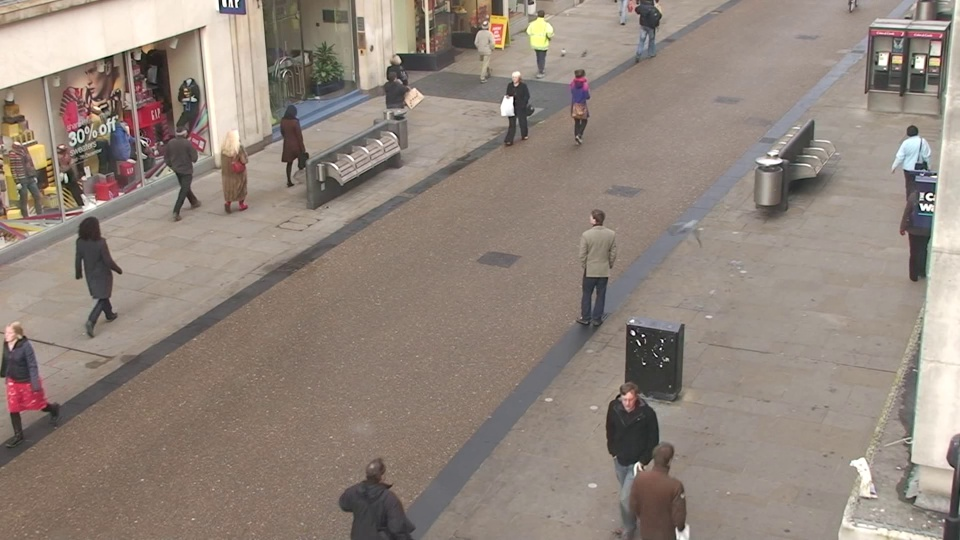pedestrian: (602, 377, 656, 540), (632, 431, 691, 540), (69, 214, 123, 333), (348, 448, 411, 540), (886, 121, 932, 221), (578, 203, 616, 323), (164, 121, 203, 215), (218, 124, 255, 220), (276, 101, 310, 192), (503, 68, 532, 151), (380, 68, 409, 150), (566, 63, 593, 145), (382, 53, 410, 130), (473, 18, 498, 86), (528, 8, 551, 73)
